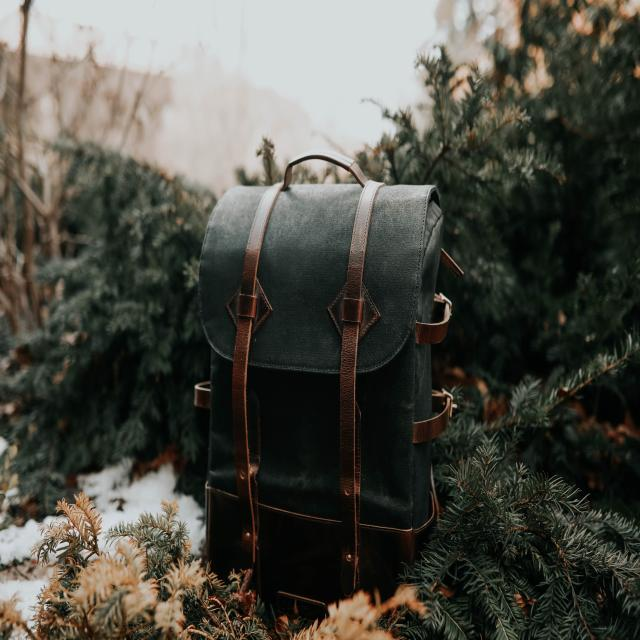backpack: (193, 154, 464, 629)
